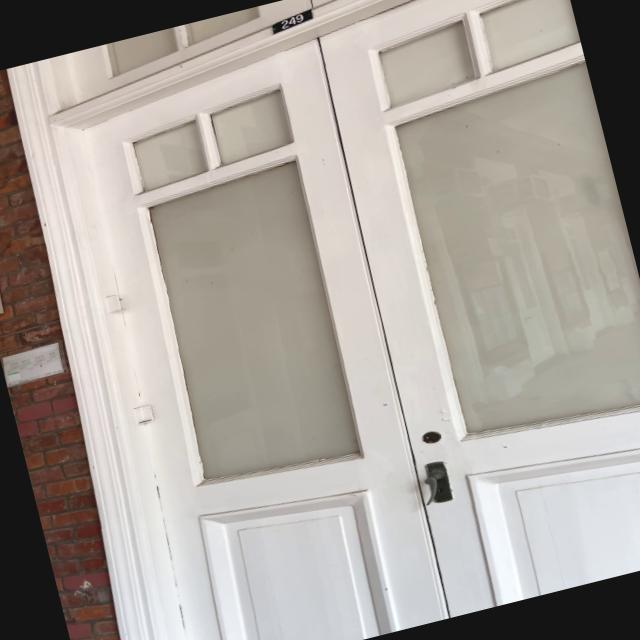room249: (268, 6, 319, 36)
